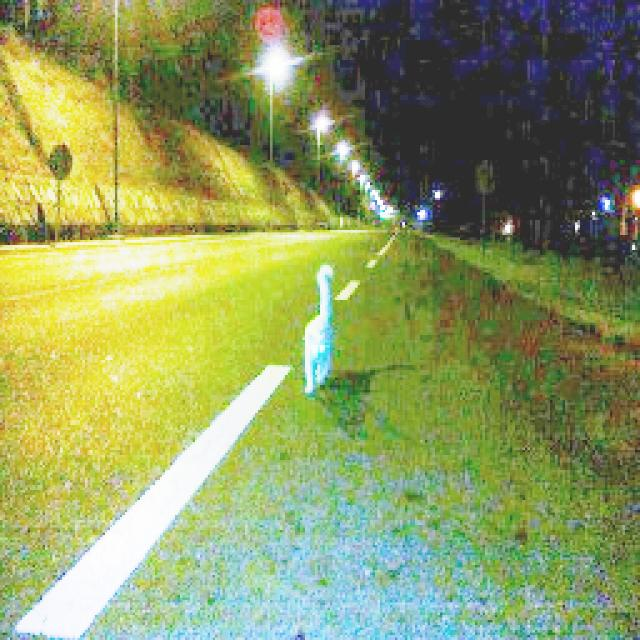cat: (296, 264, 346, 396)
